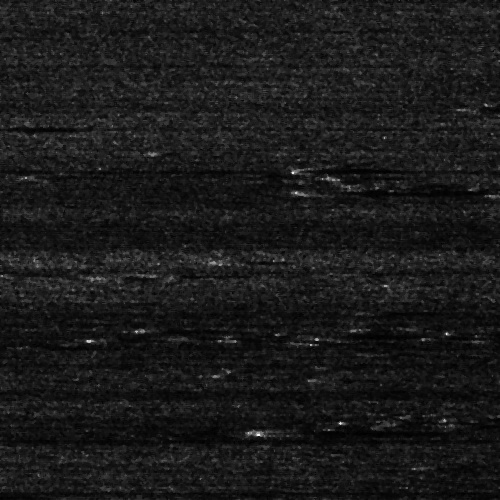object: (241, 425, 304, 436), (296, 188, 359, 195), (290, 164, 321, 171), (0, 123, 23, 128)
shadow: (273, 425, 406, 436), (328, 188, 446, 195), (306, 164, 423, 171), (0, 123, 67, 128)
